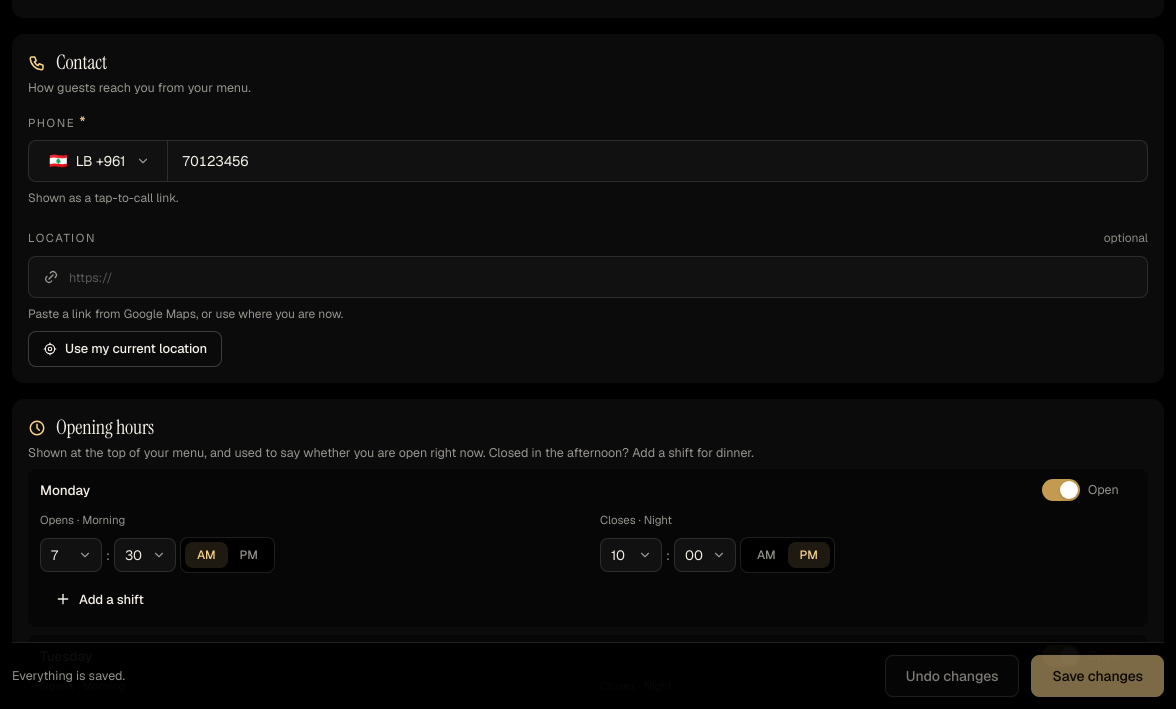
Test: RestaurantPage › explains a refused location instead of failing quietly
(page scrolled)
Click the button "Use my current location": (125, 349) [28,331,222,367]
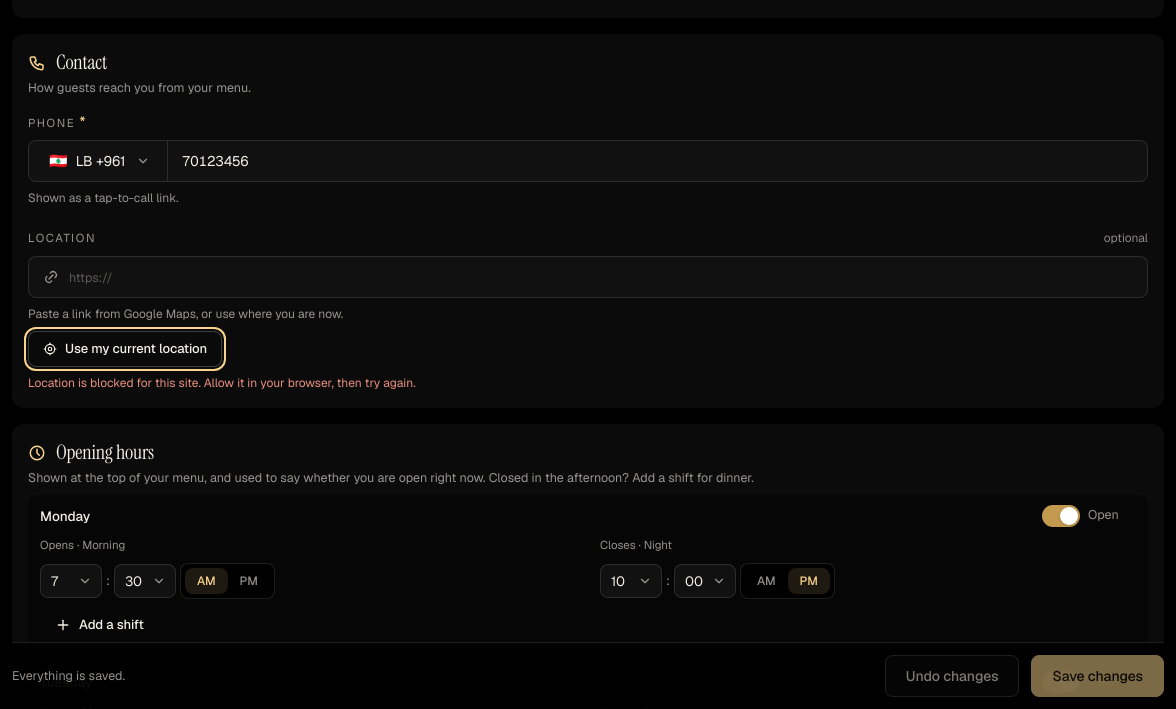
Expected: the text "Location is blocked for this site" is shown, [28,375,416,391]
